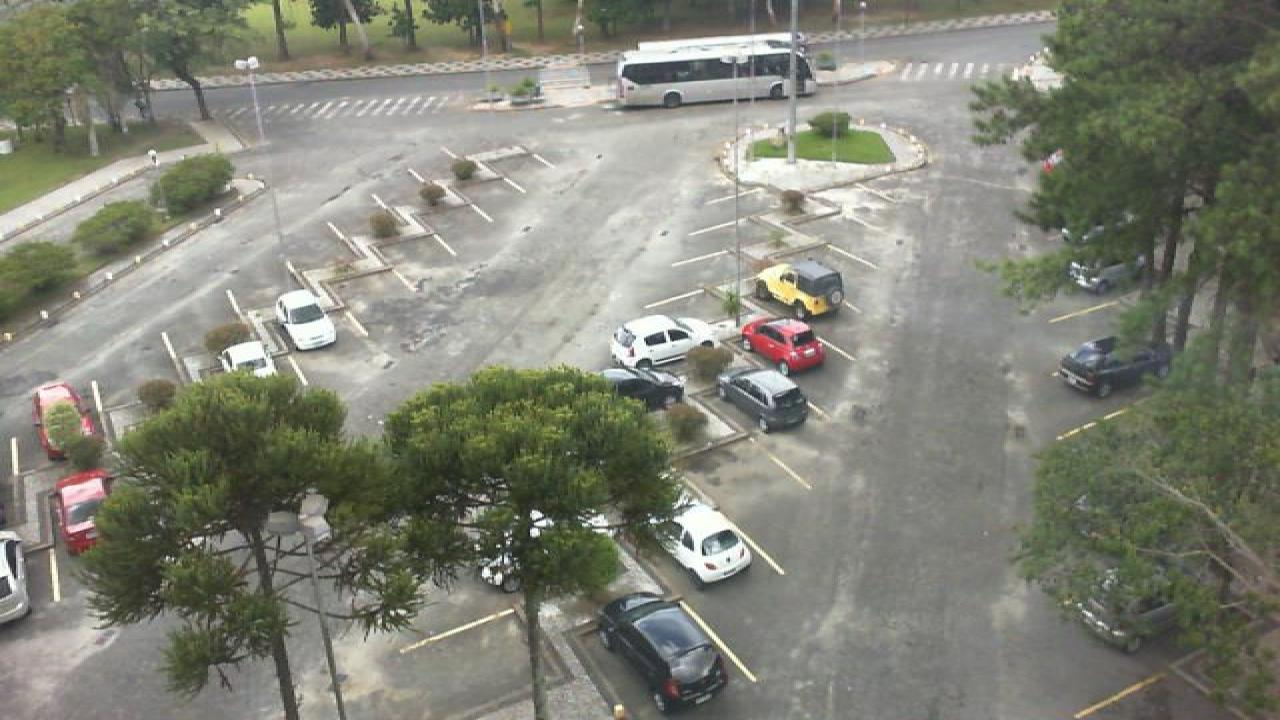Car: (592, 592, 728, 714), (640, 485, 756, 584), (1064, 562, 1184, 654), (1054, 334, 1172, 399), (716, 366, 814, 433), (610, 314, 718, 372), (752, 256, 846, 320), (52, 468, 116, 556), (738, 316, 828, 377), (30, 379, 96, 461), (594, 362, 688, 412), (1064, 241, 1148, 295), (274, 287, 338, 352), (0, 528, 32, 626), (216, 338, 278, 382)
